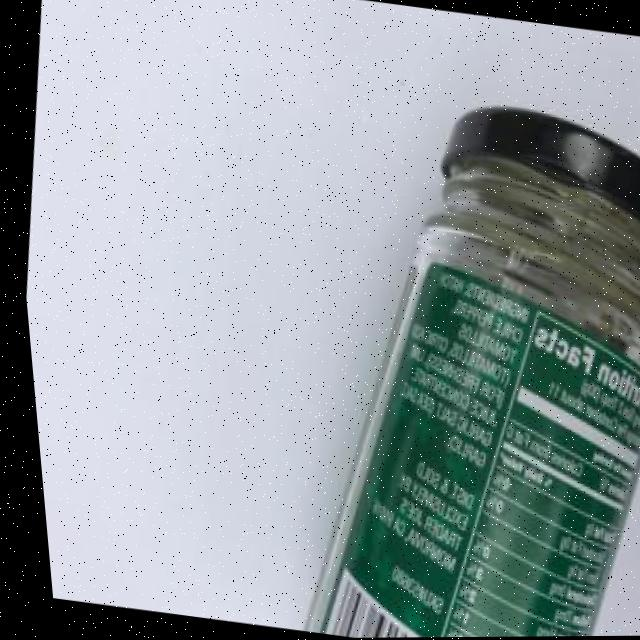glass: (229, 74, 640, 639)
